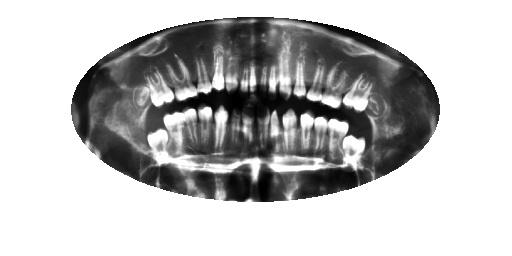i10decay: (225, 103, 245, 140)
i11chipped: (209, 101, 231, 152)
i12healthy: (196, 104, 214, 145)
i13healthy: (179, 108, 201, 147)
i14healthy: (160, 112, 188, 148)
i15healthy: (144, 127, 175, 161)
i16loss: (131, 123, 152, 149)
i1loss: (362, 138, 390, 164)
i2healthy: (340, 130, 367, 164)
i3healthy: (325, 115, 350, 156)
i4healthy: (311, 114, 329, 154)
i5healthy: (297, 108, 316, 154)
i6chipped: (279, 105, 301, 151)
i7chipped: (267, 103, 284, 145)
i8decay: (254, 105, 273, 148)
i9decay: (239, 103, 258, 144)
u10decay: (235, 57, 251, 97)
u11chipped: (221, 49, 238, 94)
u12healthy: (208, 46, 228, 93)
u13chipped: (193, 51, 216, 95)
u14healthy: (158, 49, 200, 101)
u15healthy: (140, 62, 177, 109)
u16healthy: (125, 78, 155, 113)
u1healthy: (358, 83, 391, 124)
u2healthy: (341, 69, 376, 115)
u3healthy: (320, 57, 347, 111)
u4healthy: (303, 55, 329, 105)
u5healthy: (289, 50, 311, 97)
u6decay: (274, 48, 294, 100)
u7decay: (265, 49, 276, 97)
u8decay: (256, 58, 268, 97)
u9decay: (247, 55, 258, 98)
